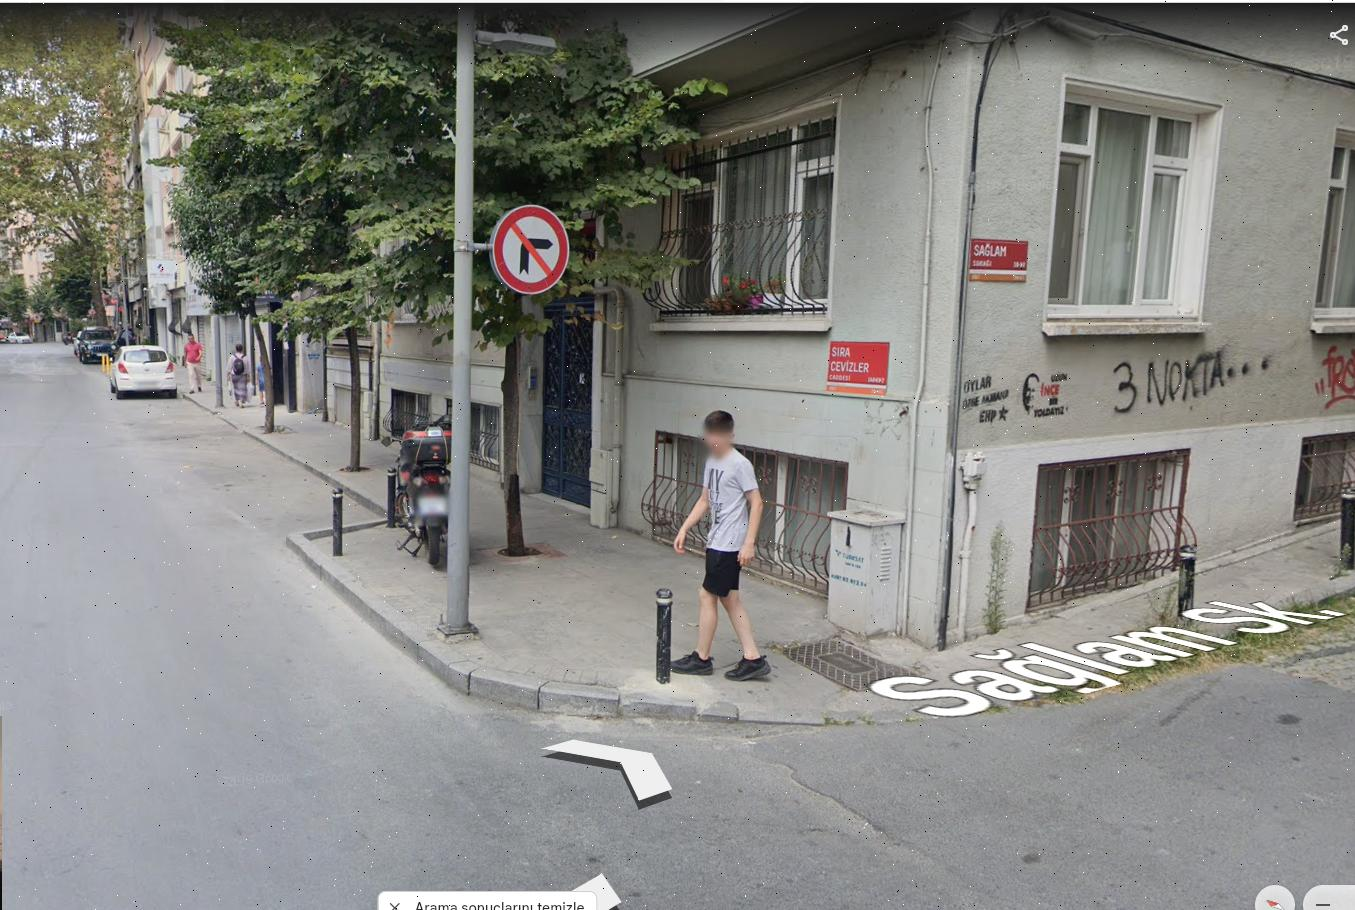rightturnsareforbidden: (493, 205, 573, 290)
